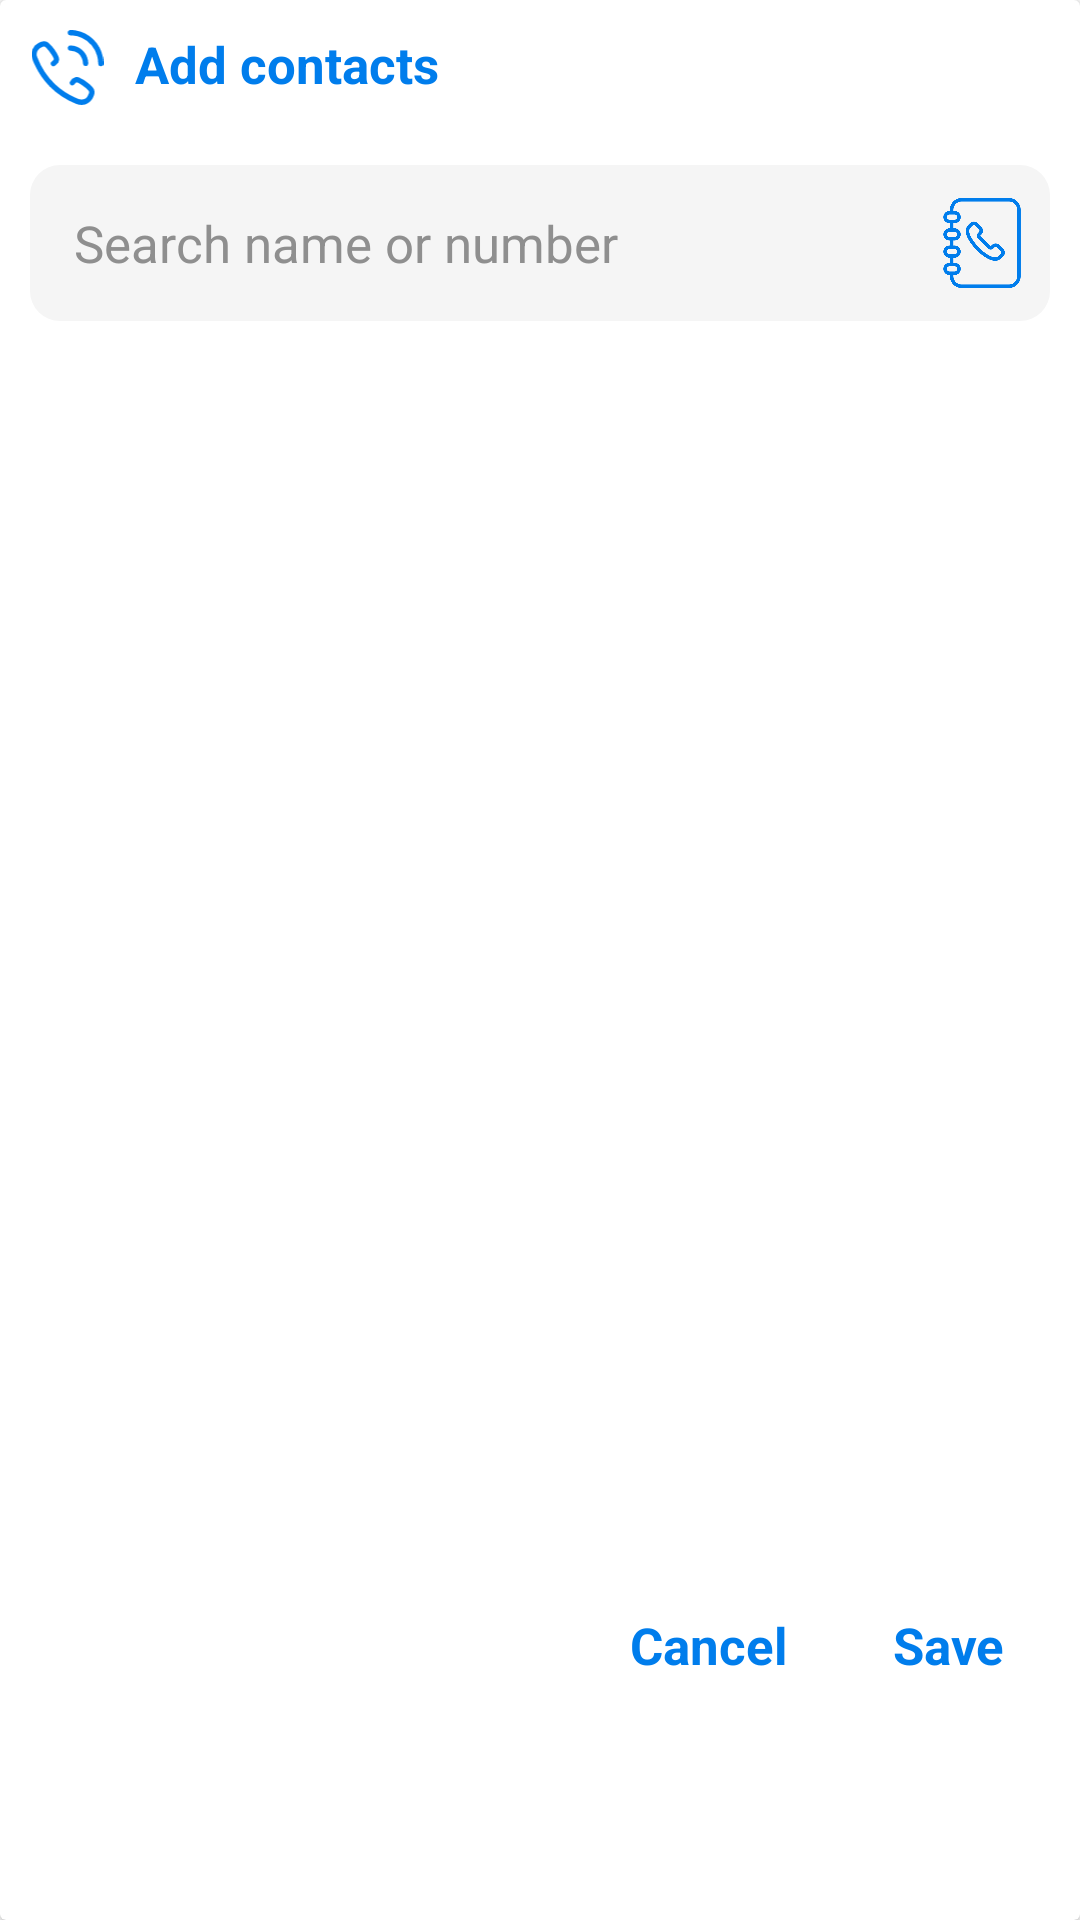

Named icons in this screenshot (1080 x 1920) and their centers, [x,y]:
call: [68,67]
phonebook: [982,243]
